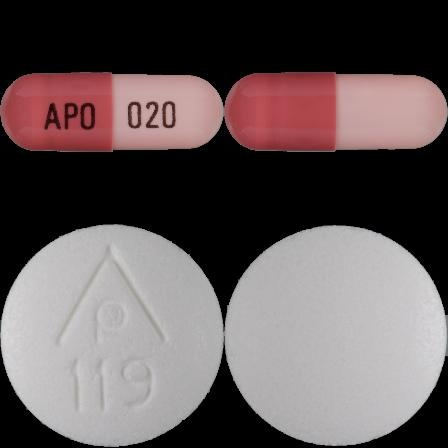55154-6685: (0, 0, 224, 224)
